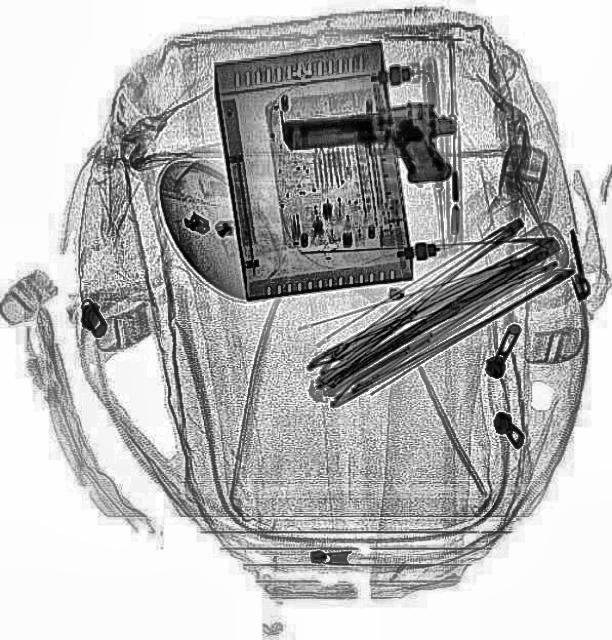Gun: (279, 96, 462, 198)
